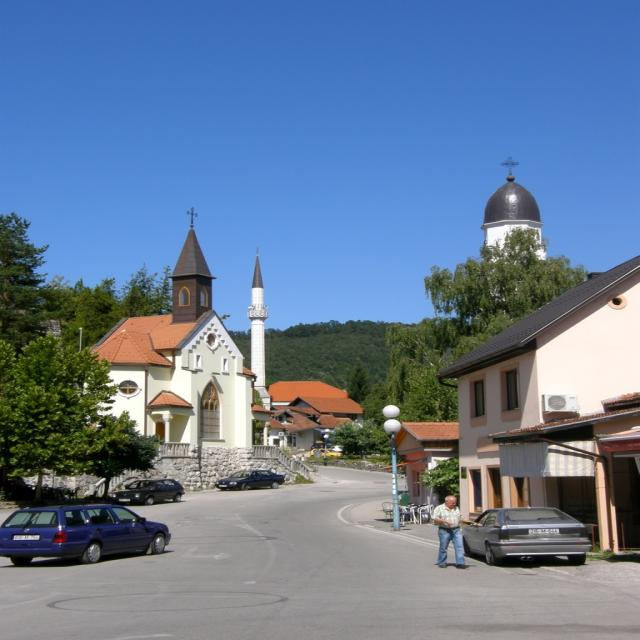car: (0, 501, 168, 568), (452, 504, 593, 564), (106, 476, 186, 505), (215, 464, 287, 492)
